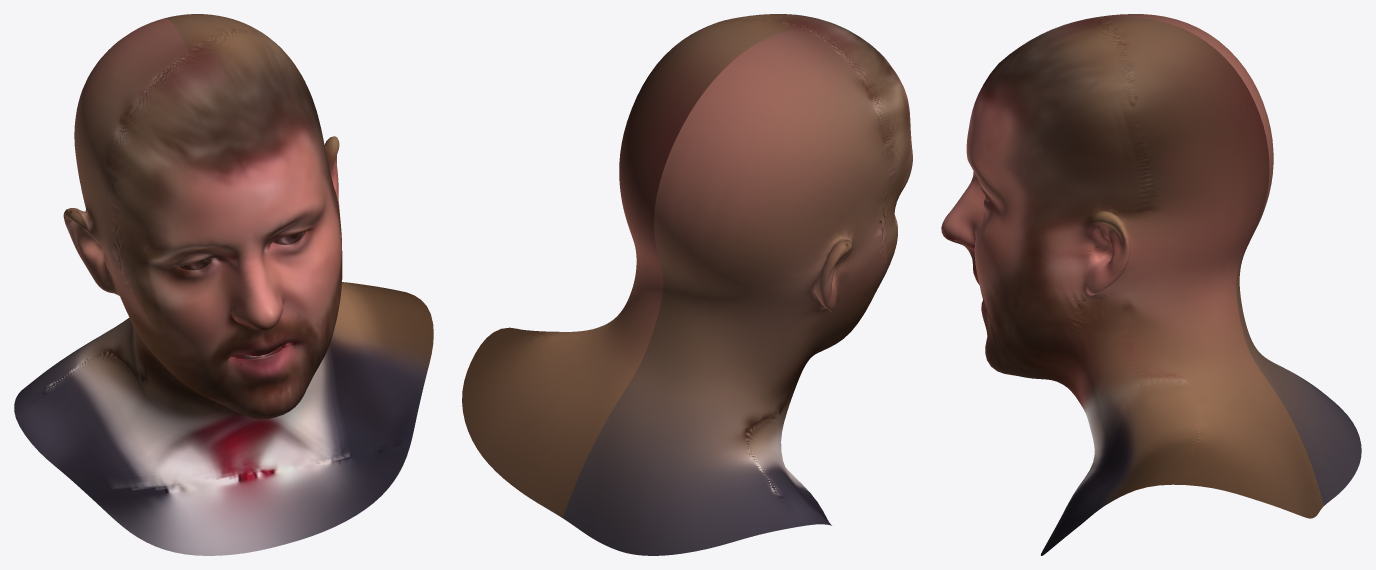
Rendered from hdtf_00349_f375.glb.
3 renders of one model, left to right at view 1: azimuth 30°, elevation 25°; view 2: azimuth 150°, elevation 25°; view 3: azimuth 270°, elevation 25°, orthographic. The views are drawn at different scales.
Parts seen in each view (by area): view 1: tile1001; view 2: tile1001; view 3: tile1001.
Boxes of the visible parts, x1=… form: tile1001: x1=14, y1=14, x2=433, y2=555; tile1001: x1=462, y1=14, x2=912, y2=555; tile1001: x1=941, y1=14, x2=1361, y2=555.
Size of the model in its own units: 0.2541 by 0.3393 by 0.2586.
5 materials, 5 textured.
